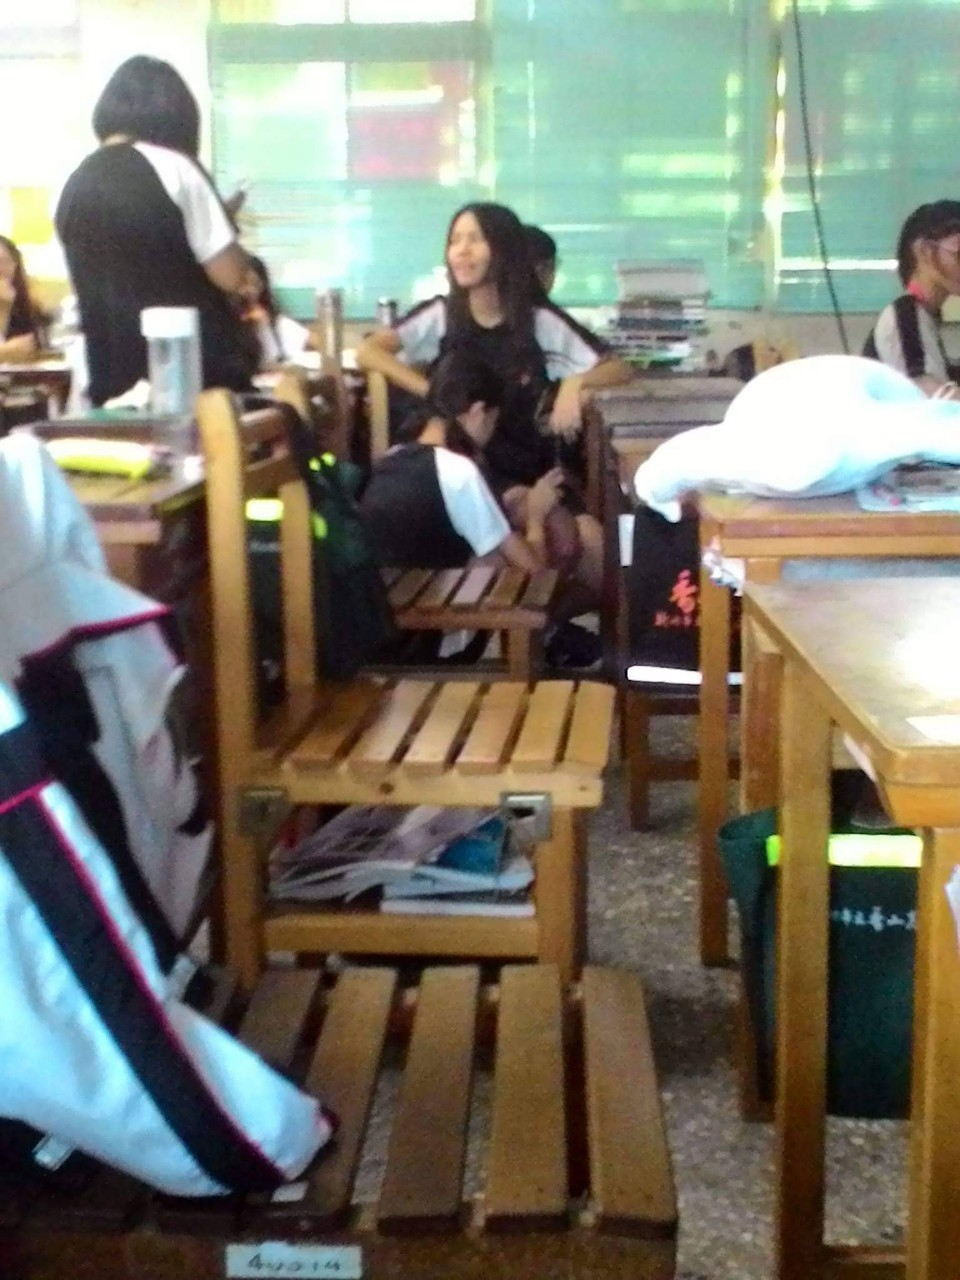people: (60, 49, 262, 421), (411, 216, 591, 465), (389, 351, 536, 600), (848, 198, 960, 378), (1, 225, 58, 359), (536, 219, 593, 310)
